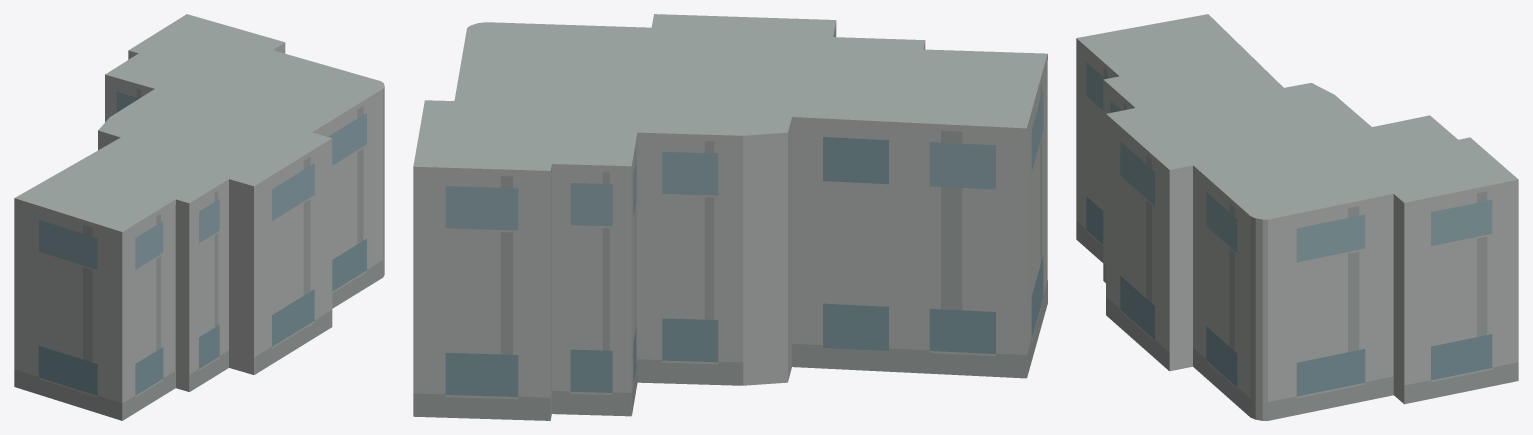
File: residential-77c1b4d1-0af9-4ef2-ba99-62dff64db8c6.glb
The picture shows the model from 3 angles, left to right: view 1: azimuth 30°, elevation 25°; view 2: azimuth 150°, elevation 25°; view 3: azimuth 270°, elevation 25°; orthographic projection. The views are drawn at different scales.
Parts seen in each view (by area): view 1: residential-77c1b4d1-0af9-4ef2-ba99-62dff64db8c6.tmp; view 2: residential-77c1b4d1-0af9-4ef2-ba99-62dff64db8c6.tmp; view 3: residential-77c1b4d1-0af9-4ef2-ba99-62dff64db8c6.tmp.
Part boxes in pixels (x1=…): residential-77c1b4d1-0af9-4ef2-ba99-62dff64db8c6.tmp: x1=14, y1=14, x2=384, y2=420; residential-77c1b4d1-0af9-4ef2-ba99-62dff64db8c6.tmp: x1=413, y1=14, x2=1047, y2=420; residential-77c1b4d1-0af9-4ef2-ba99-62dff64db8c6.tmp: x1=1076, y1=14, x2=1518, y2=420.
Bounding box in the file's own units: 20.03 × 9.15 × 18.22.
